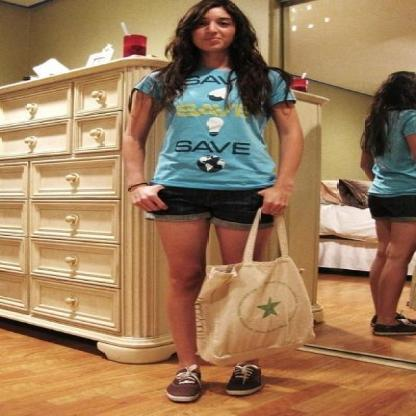bag: (195, 252, 320, 372)
shirt: (131, 67, 305, 189)
shoe: (166, 368, 260, 404)
shorts: (157, 184, 274, 229)
